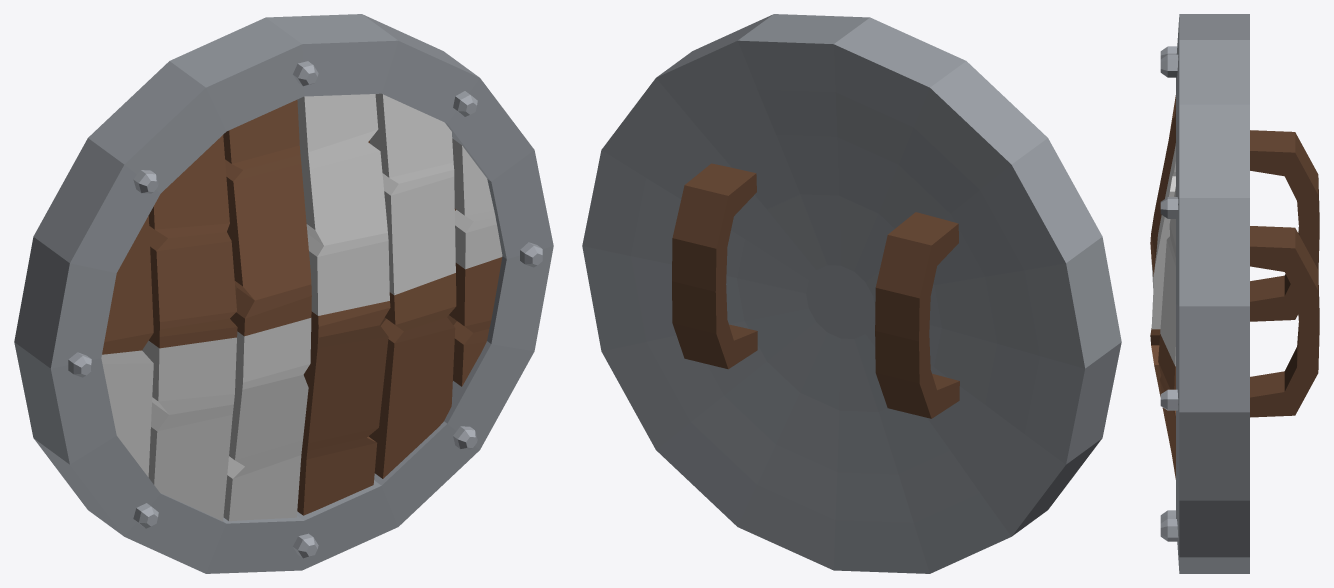
Rendered from Shield_Round_2.gltf.
3 views of the same model, side by side, from view 1: azimuth 30°, elevation 25°; view 2: azimuth 150°, elevation 25°; view 3: azimuth 270°, elevation 25° (orthographic). The views are drawn at different scales.
Parts seen in each view (by area): view 1: Shield_Round_2; view 2: Shield_Round_2; view 3: Shield_Round_2.
Boxes of the visible parts, box(x1,y1,x2,y2) form: Shield_Round_2: box(14, 14, 553, 573); Shield_Round_2: box(582, 14, 1121, 573); Shield_Round_2: box(1150, 14, 1319, 573).
Bounding box in the file's own units: 2 × 2 × 0.6037.
